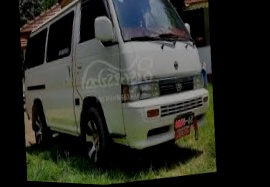van: (9, 0, 212, 177)
